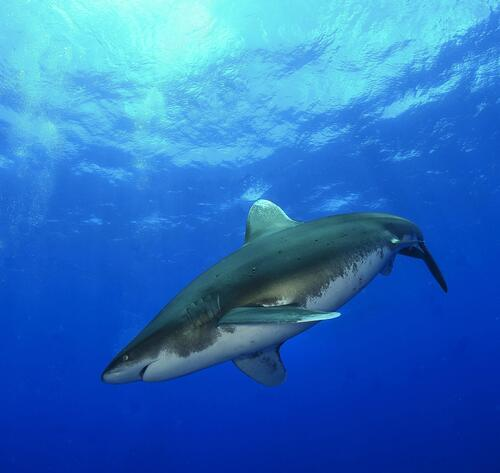shark: (100, 198, 449, 388)
